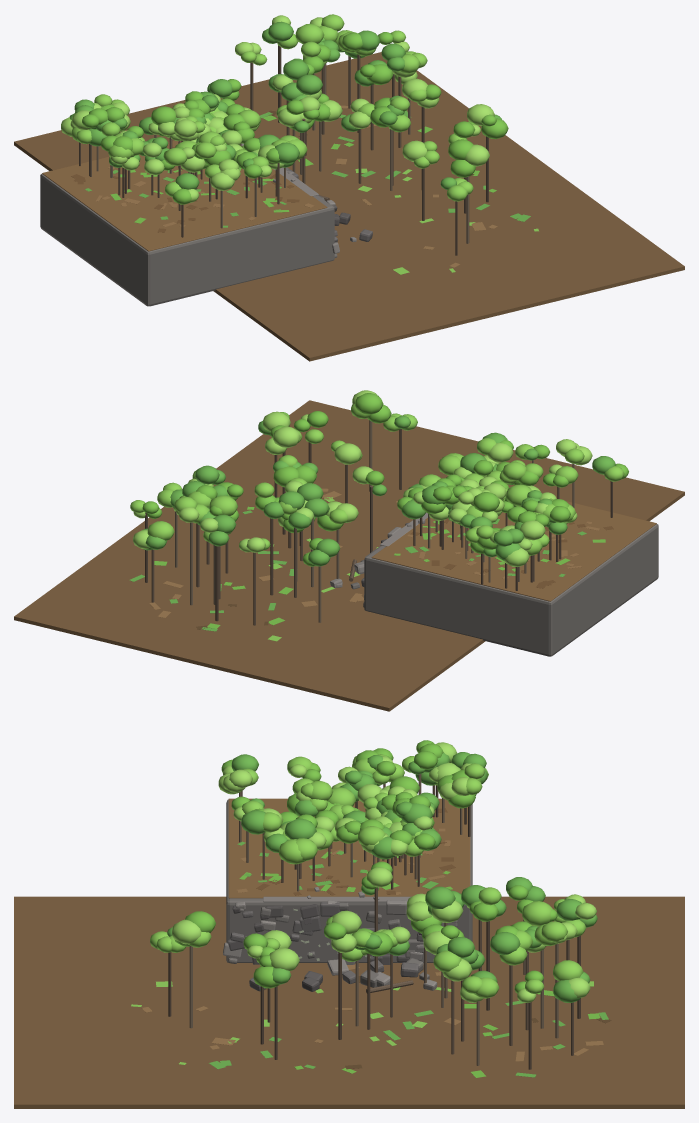
Rendered from cliff.glb.
The picture shows the model from 3 angles, top to bottom: view 1: azimuth 30°, elevation 25°; view 2: azimuth 150°, elevation 25°; view 3: azimuth 270°, elevation 25°; orthographic projection. The views are drawn at different scales.
Parts seen in each view (by area): view 1: valley, plateau, tree_67, tree_58, tree_74, tree_55, tree_75, tree_56, tree_53, tree_54, tree_70, tree_63 (+24 smaller); view 2: valley, plateau, tree_67, tree_75, tree_57, tree_68, tree_60, tree_64, tree_62, tree_69, tree_56, tree_55 (+26 smaller); view 3: valley, plateau, rocks, tree_74, tree_58, tree_56, tree_67, tree_55, tree_68, tree_49, tree_66, tree_75 (+30 smaller).
Boxes of the visible parts, bbox=[...] form: valley: bbox=[14, 52, 684, 361]; plateau: bbox=[40, 140, 339, 306]; tree_67: bbox=[448, 139, 489, 243]; tree_58: bbox=[467, 104, 508, 202]; tree_74: bbox=[381, 43, 420, 147]; tree_55: bbox=[402, 78, 441, 189]; tree_75: bbox=[262, 15, 297, 122]; tree_56: bbox=[338, 30, 380, 132]; tree_53: bbox=[370, 104, 410, 190]; tree_54: bbox=[341, 98, 374, 183]; tree_70: bbox=[402, 140, 439, 220]; tree_63: bbox=[354, 60, 393, 150]; valley: bbox=[14, 400, 684, 711]; plateau: bbox=[363, 487, 658, 656]; tree_67: bbox=[351, 390, 391, 491]; tree_75: bbox=[200, 514, 236, 621]; tree_57: bbox=[278, 491, 314, 597]; tree_68: bbox=[133, 521, 174, 602]; tree_60: bbox=[254, 482, 283, 595]; tree_64: bbox=[303, 538, 340, 622]; tree_62: bbox=[317, 501, 358, 578]; tree_69: bbox=[174, 496, 209, 605]; tree_56: bbox=[179, 481, 217, 587]; tree_55: bbox=[265, 425, 302, 534]; valley: bbox=[14, 896, 684, 1108]; plateau: bbox=[223, 798, 472, 964]; rocks: bbox=[249, 887, 437, 993]; tree_74: bbox=[433, 937, 474, 1054]; tree_58: bbox=[253, 948, 299, 1059]; tree_56: bbox=[490, 925, 532, 1045]; tree_67: bbox=[172, 911, 215, 1028]; tree_55: bbox=[324, 910, 361, 1039]; tree_68: bbox=[553, 960, 590, 1055]; tree_49: bbox=[460, 970, 499, 1065]; tree_66: bbox=[425, 886, 464, 998]; tree_75: bbox=[556, 899, 597, 1018].
Bounding box in the file's own units: 52 × 13.9 × 60.
